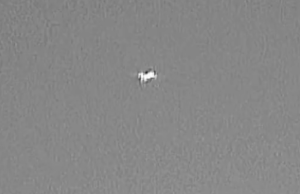Target: (139, 72, 156, 82)
